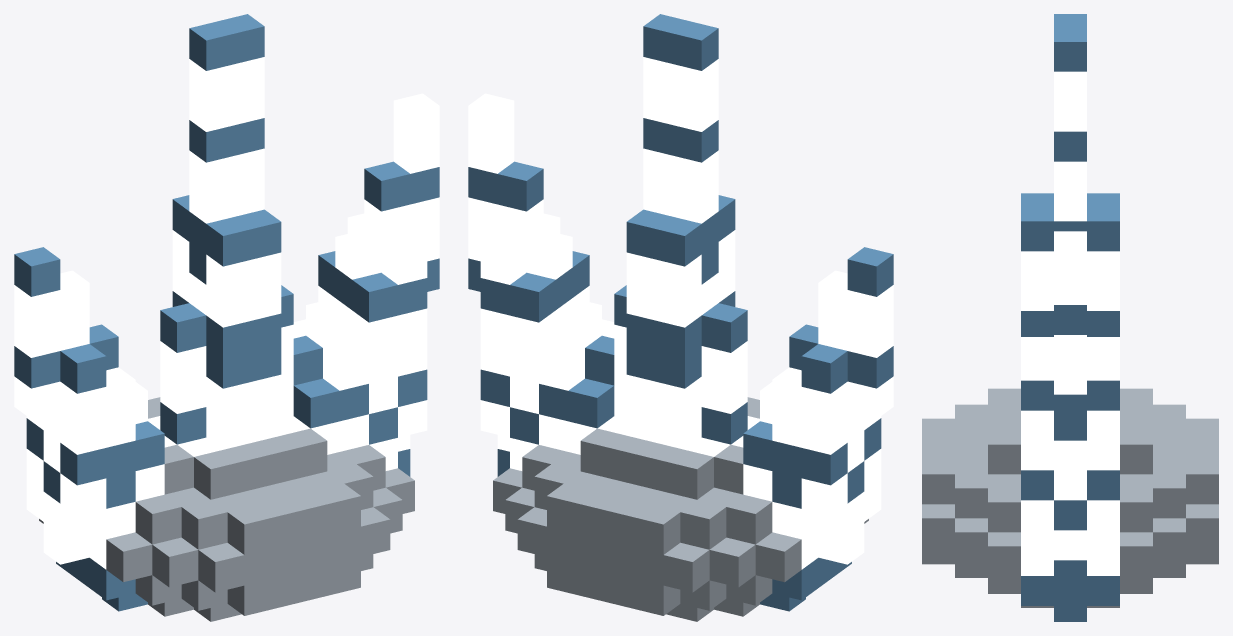
File: rime_shard.glb
3 renders of one model, left to right at view 1: azimuth 30°, elevation 25°; view 2: azimuth 150°, elevation 25°; view 3: azimuth 270°, elevation 25°, orthographic. The views are drawn at different scales.
Parts seen in each view (by area): view 1: rime_shard; view 2: rime_shard; view 3: rime_shard.
Boxes of the visible parts, <box> form: rime_shard: <box>14,14,439,621</box>; rime_shard: <box>468,14,893,621</box>; rime_shard: <box>922,14,1218,621</box>.
Bounding box in the file's own units: 0.28 × 0.36 × 0.18.
